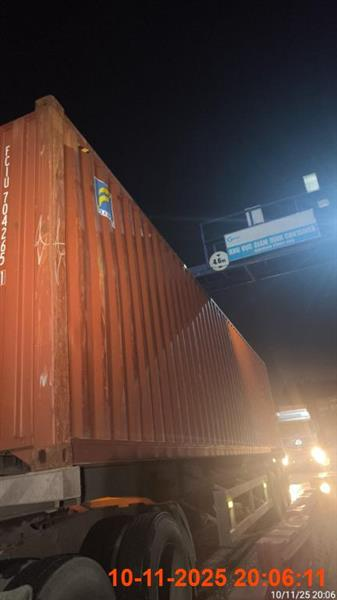broken: (0, 95, 301, 598)
